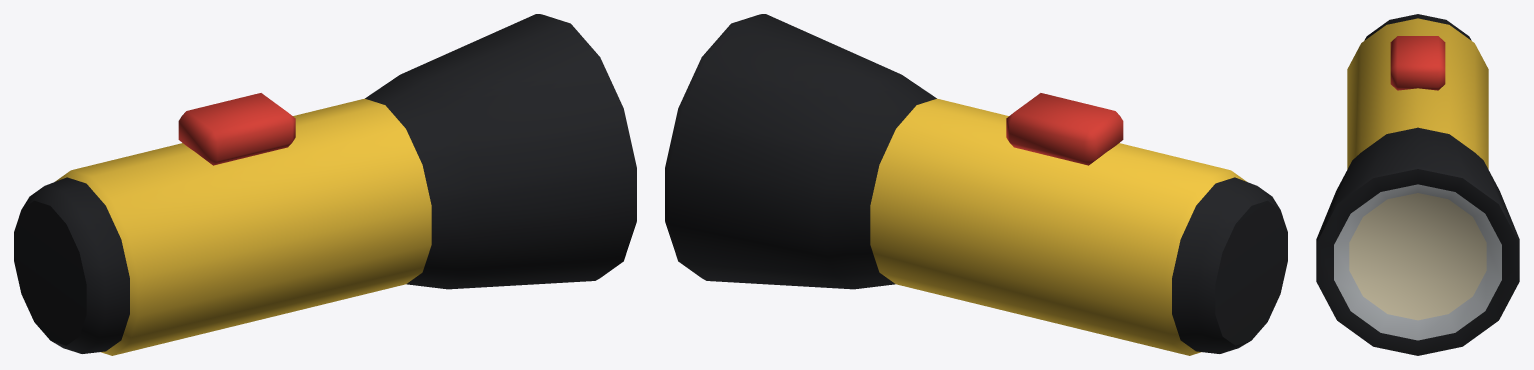
The model's file is SM_Flashlight_01.glb.
3 renders of one model, left to right at view 1: azimuth 30°, elevation 25°; view 2: azimuth 150°, elevation 25°; view 3: azimuth 270°, elevation 25°, orthographic. The views are drawn at different scales.
Parts seen in each view (by area): view 1: SM_Flashlight_01; view 2: SM_Flashlight_01; view 3: SM_Flashlight_01.
Boxes of the visible parts, bbox=[...] form: SM_Flashlight_01: bbox=[14, 14, 636, 355]; SM_Flashlight_01: bbox=[665, 14, 1287, 355]; SM_Flashlight_01: bbox=[1316, 14, 1519, 355].
Bounding box in the file's own units: 0.202 × 0.092 × 0.0897.
Materials: 1 (1 with a texture image).
